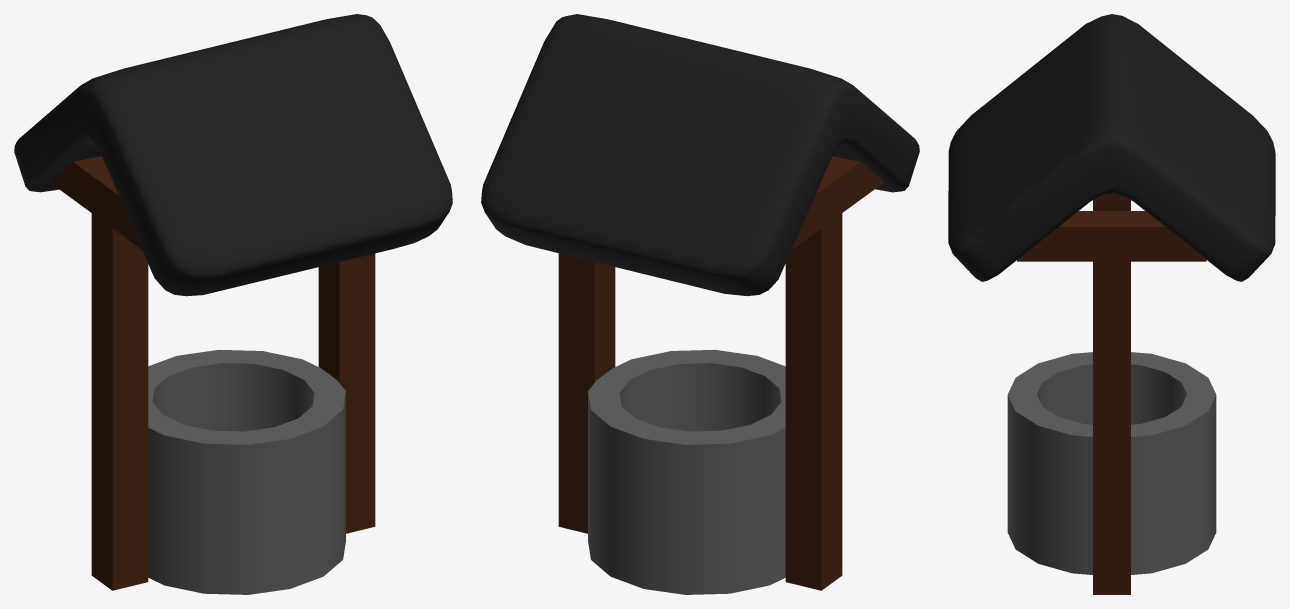
The model's file is well.glb.
The picture shows the model from 3 angles, left to right: view 1: azimuth 30°, elevation 25°; view 2: azimuth 150°, elevation 25°; view 3: azimuth 270°, elevation 25°; orthographic projection. The views are drawn at different scales.
Parts seen in each view (by area): view 1: Plane, Cylinder, Cube, Cube.001; view 2: Plane, Cylinder, Cube, Cube.001; view 3: Plane, Cylinder, Cube, Cube.001.
Part boxes in pixels (x1=…): Plane: x1=14, y1=14, x2=452, y2=296; Cylinder: x1=148, y1=349, x2=345, y2=594; Cube: x1=91, y1=209, x2=375, y2=590; Cube.001: x1=50, y1=156, x2=141, y2=249; Plane: x1=481, y1=14, x2=919, y2=296; Cylinder: x1=588, y1=349, x2=785, y2=594; Cube: x1=558, y1=209, x2=842, y2=590; Cube.001: x1=791, y1=156, x2=883, y2=249; Plane: x1=948, y1=14, x2=1275, y2=281; Cylinder: x1=1007, y1=352, x2=1216, y2=574; Cube: x1=1093, y1=193, x2=1130, y2=594; Cube.001: x1=1017, y1=211, x2=1206, y2=261.
Size of the model in its own units: 2 by 3.37 by 2.15.
